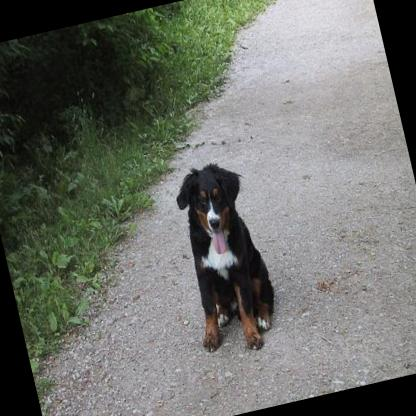Bernese_mountain_dog: (162, 153, 286, 360)
